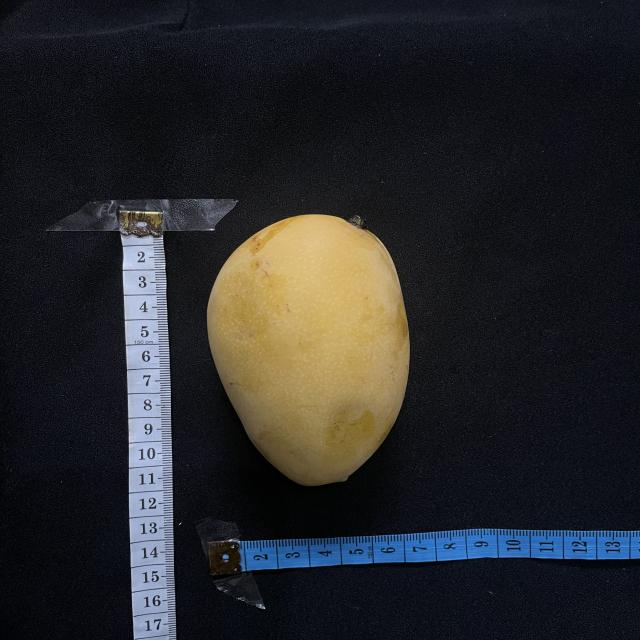Ripe: (207, 215, 409, 486)
